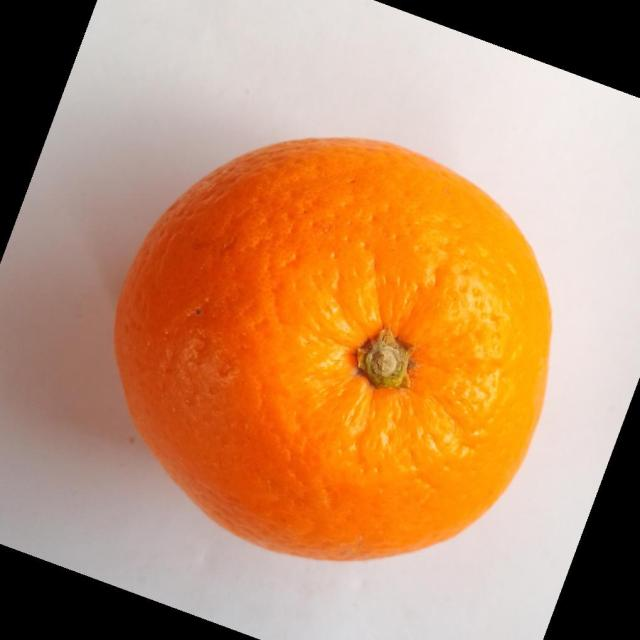fresh orange: (112, 135, 553, 561)
